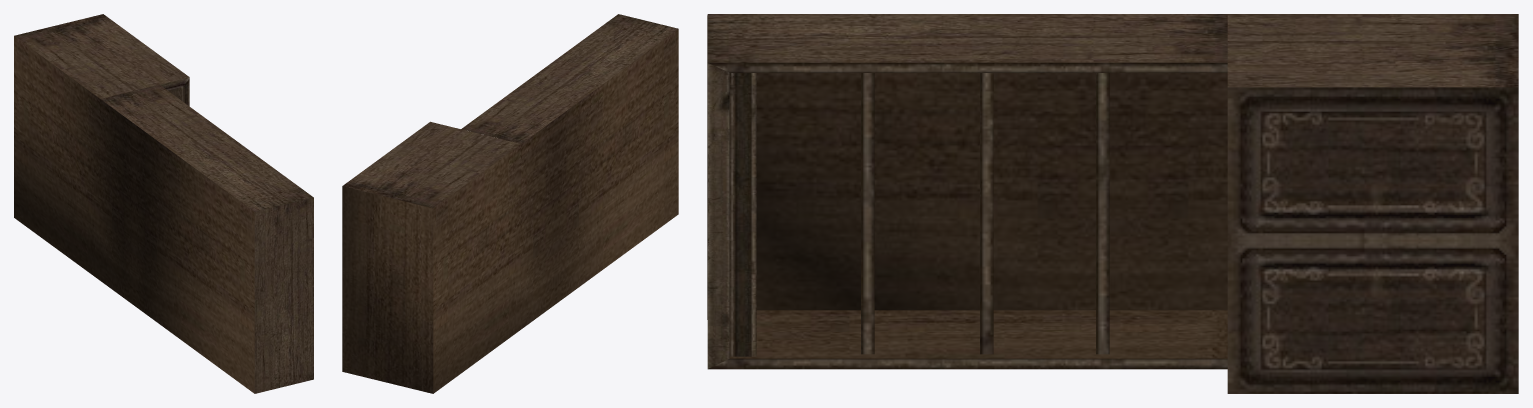
The model's file is furniture_bookshelvestall.glb.
3 renders of one model, left to right at view 1: azimuth 30°, elevation 25°; view 2: azimuth 150°, elevation 25°; view 3: azimuth 270°, elevation 25°, orthographic. The views are drawn at different scales.
Size of the model in its own units: 17.98 by 34.98 by 83.92.
1 material, 1 textured.
